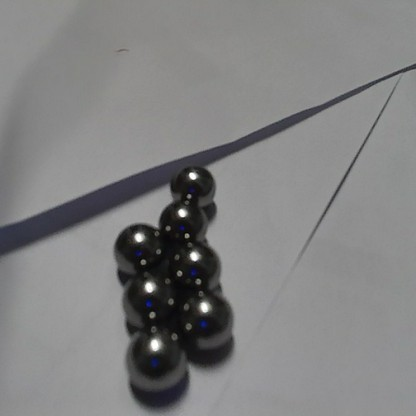ironball: (125, 333, 184, 385), (122, 277, 174, 326), (184, 294, 230, 348), (113, 224, 164, 267), (174, 242, 219, 286), (159, 202, 206, 242), (169, 166, 213, 199)
